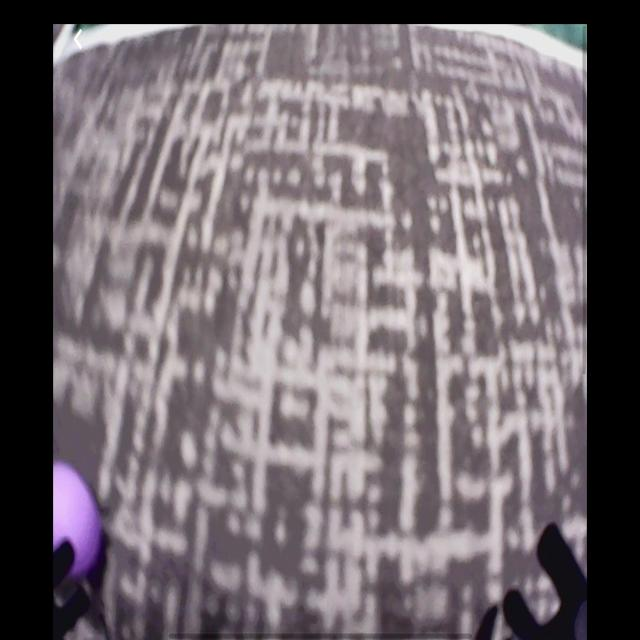ball: (55, 460, 103, 584)
